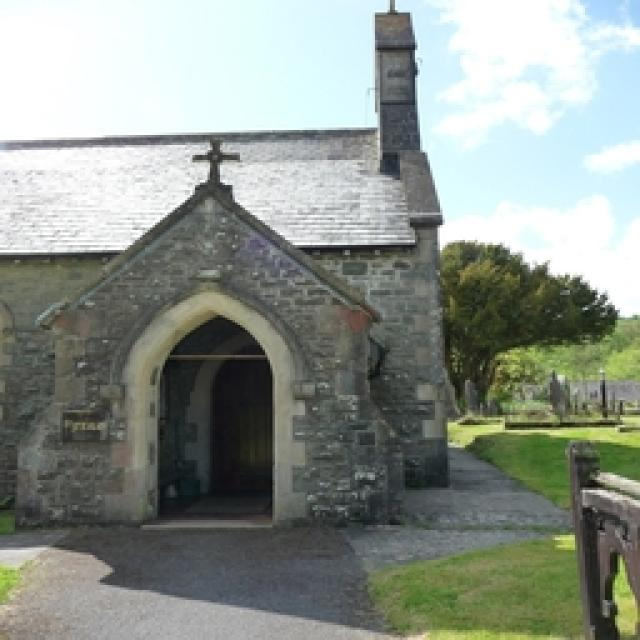Abbey: (2, 10, 456, 557)
